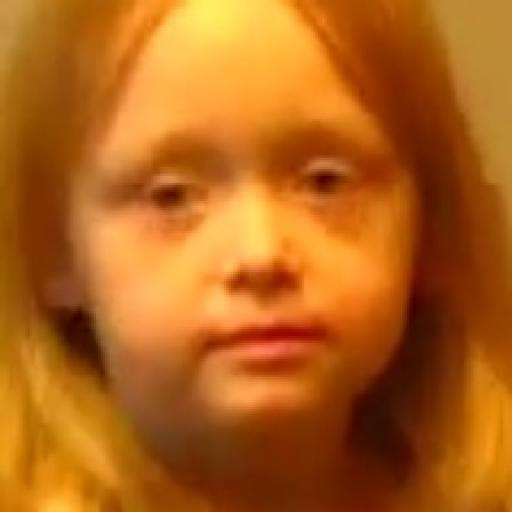Autism: (73, 0, 512, 512)
